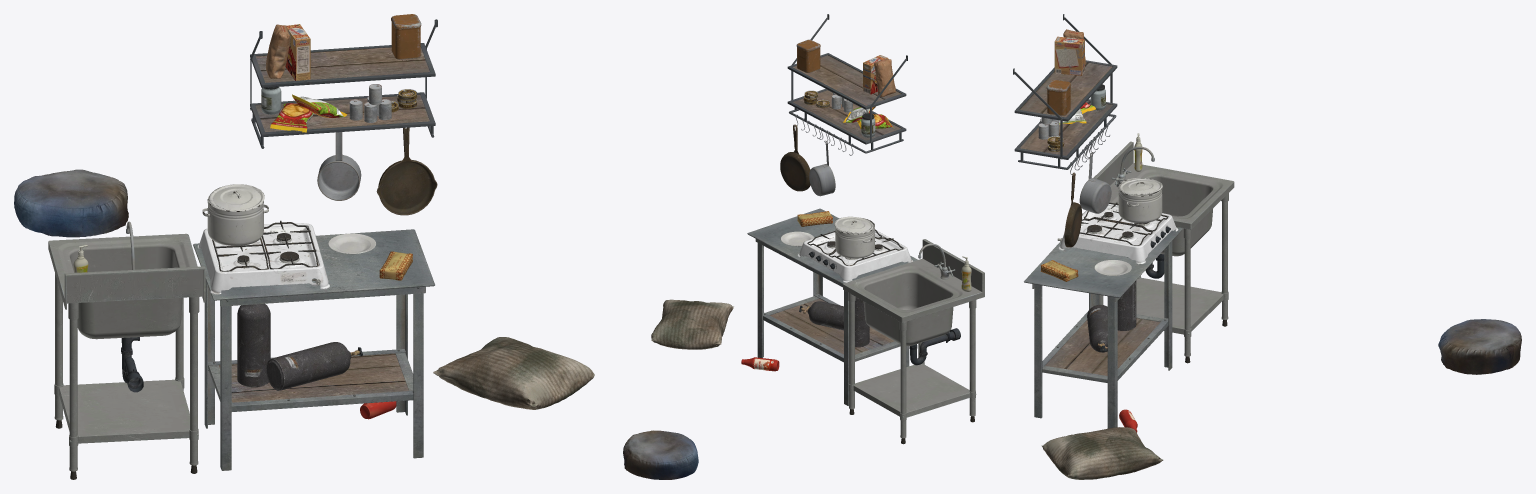
The model's file is Kueche_packed.glb.
3 views of the same model, side by side, from view 1: azimuth 30°, elevation 25°; view 2: azimuth 150°, elevation 25°; view 3: azimuth 270°, elevation 25° (orthographic). The views are drawn at different scales.
Parts seen in each view (by area): view 1: object 3, object 1, object 2, GasCylinder.002_36, GasCylinder.001_34, Package_Smooth.001_16, Package_Smooth.002_32; view 2: object 3, object 1, object 2, GasCylinder.002_36, GasCylinder.001_34; view 3: object 3, object 1, object 2, GasCylinder.002_36, GasCylinder.001_34.
Boxes of the visible parts, <box> form: object 3: <box>14,169,594,479</box>; object 1: <box>193,14,437,470</box>; object 2: <box>202,127,437,254</box>; GasCylinder.002_36: <box>266,342,351,390</box>; GasCylinder.001_34: <box>237,303,270,387</box>; Package_Smooth.001_16: <box>270,103,313,132</box>; Package_Smooth.002_32: <box>292,94,347,117</box>; object 3: <box>623,229,984,479</box>; object 1: <box>741,14,917,405</box>; object 2: <box>780,124,874,258</box>; GasCylinder.002_36: <box>807,301,843,330</box>; GasCylinder.001_34: <box>855,297,869,347</box>; object 3: <box>1041,133,1521,479</box>; object 1: <box>1013,14,1182,432</box>; object 2: <box>1064,152,1162,275</box>; GasCylinder.002_36: <box>1087,304,1107,352</box>; GasCylinder.001_34: <box>1117,280,1136,330</box>.
Size of the model in its own units: 1.28 by 1.13 by 1.48.
9 materials, 9 textured.
